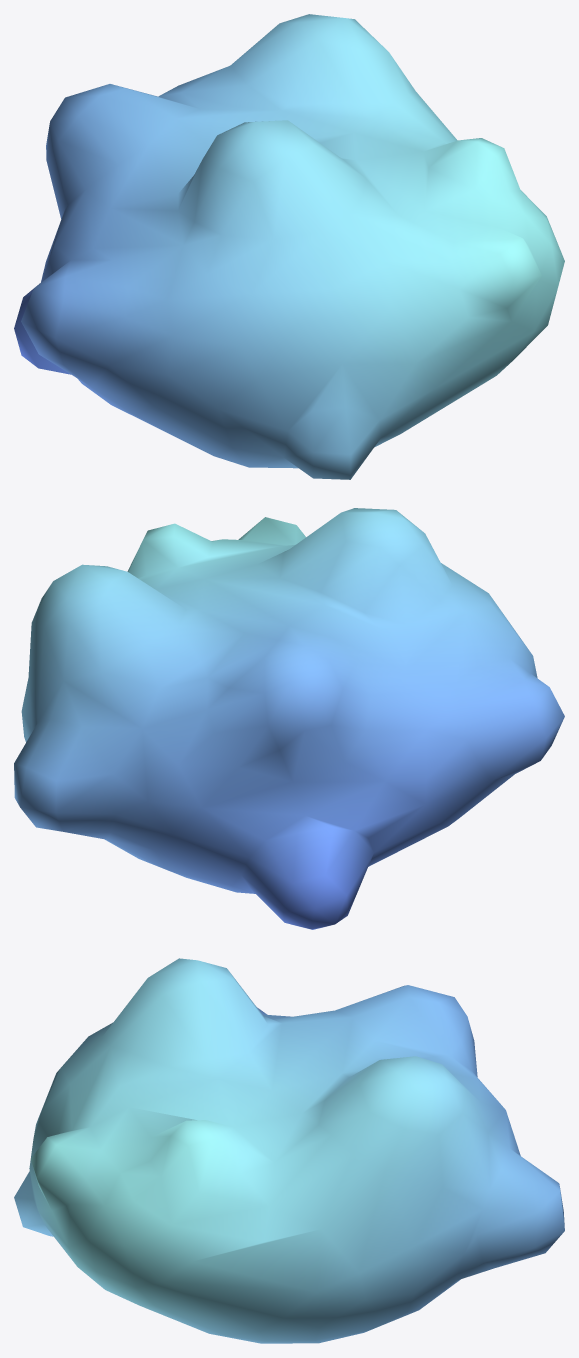
File: Soapstone.fbx
3 renders of one model, top to bottom at view 1: azimuth 30°, elevation 25°; view 2: azimuth 150°, elevation 25°; view 3: azimuth 270°, elevation 25°, orthographic. The views are drawn at different scales.
Visible parts, largest first — view 1: SOAPSTONE.001; view 2: SOAPSTONE.001; view 3: SOAPSTONE.001.
Boxes of the visible parts, bbox=[...] form: SOAPSTONE.001: bbox=[14, 14, 564, 479]; SOAPSTONE.001: bbox=[14, 508, 564, 929]; SOAPSTONE.001: bbox=[14, 958, 564, 1343].
Bounding box in the file's own units: 164 × 109 × 172.
Materials: 1 (1 with a texture image).
